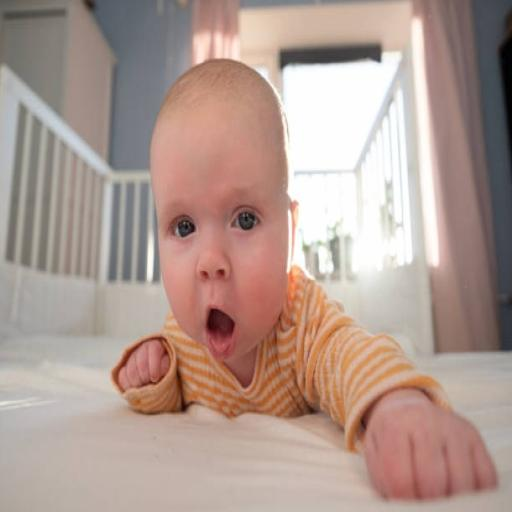baby: (112, 60, 496, 498)
crib: (0, 67, 511, 510)
